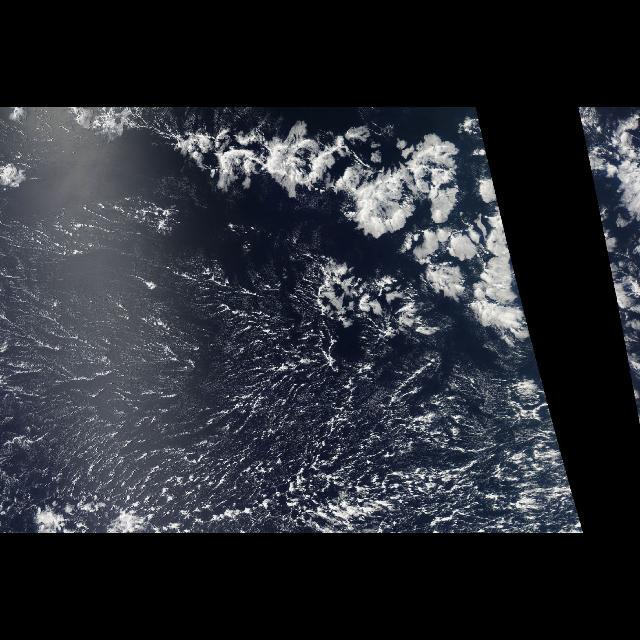Gravel: (17, 365, 579, 533)
Sugar: (0, 196, 328, 484)
